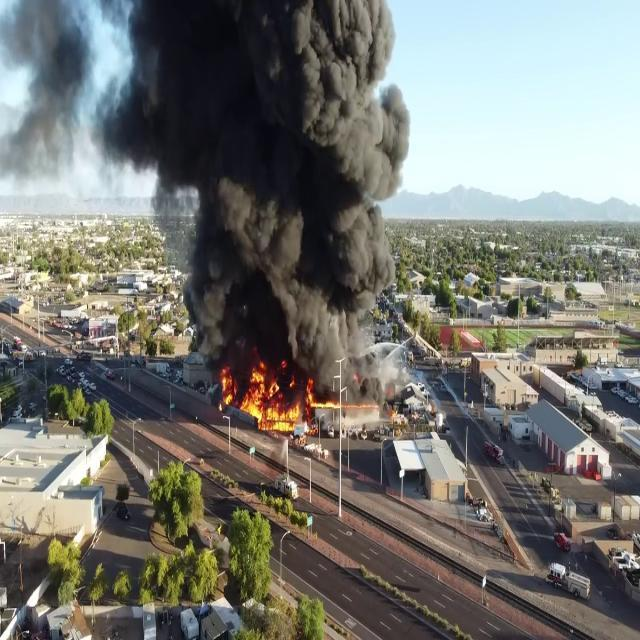Fire: (233, 356, 314, 433)
Smoke: (92, 1, 420, 334)
